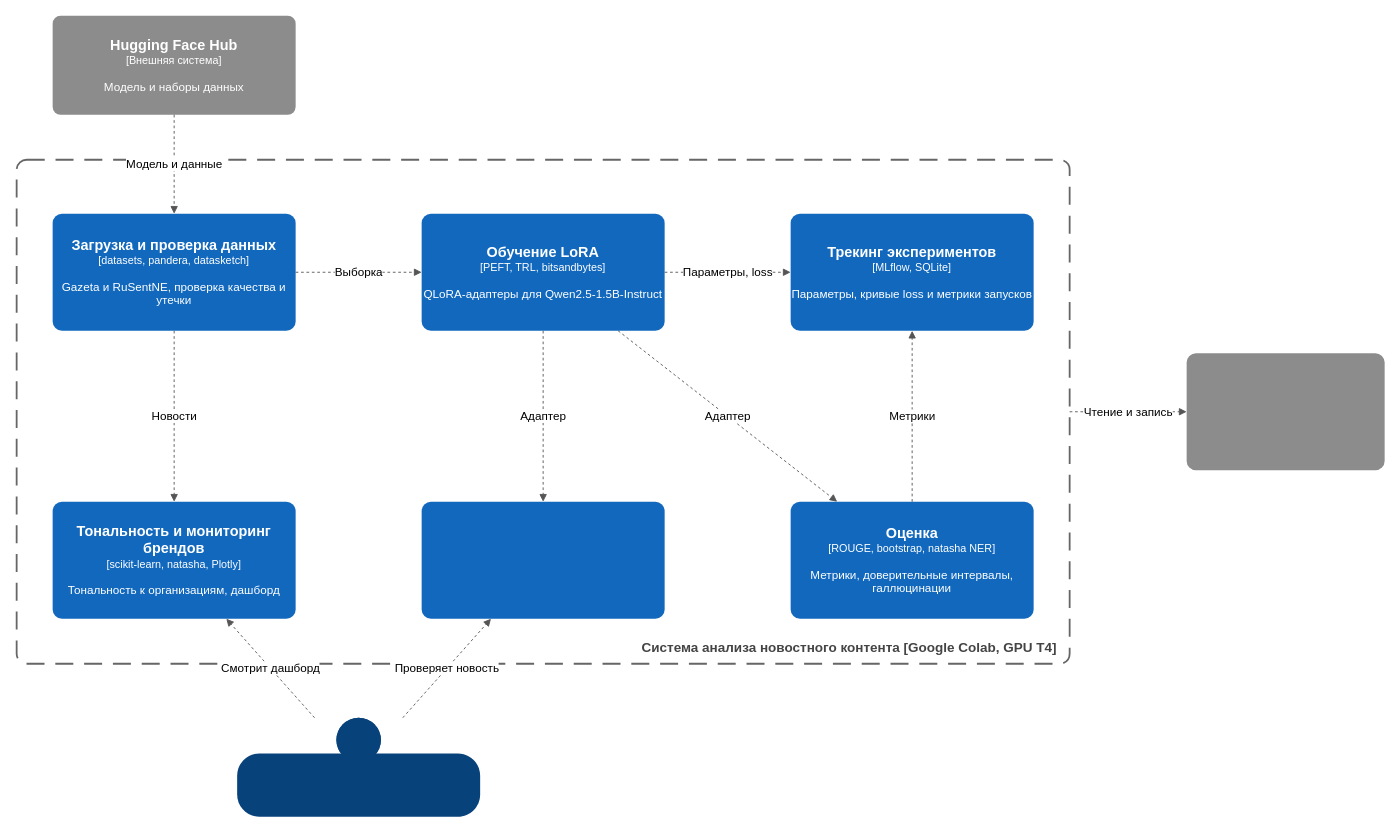
The diagram is 1400 pixels wide and 832 high, and some of its shapes have lost their labels. Here are the shapes that lost their labels. From the top down, the centre of each, then its label:
At (1285,411): "Google Drive [Внешнее хранилище] Данные, адаптеры, отчёты, mlflow.db".
At (542,559): "Демо-интерфейс [Gradio] Пересказ и тональность введённой новости".
At (358,766): "Маркетолог / аналитик [Человек]".
